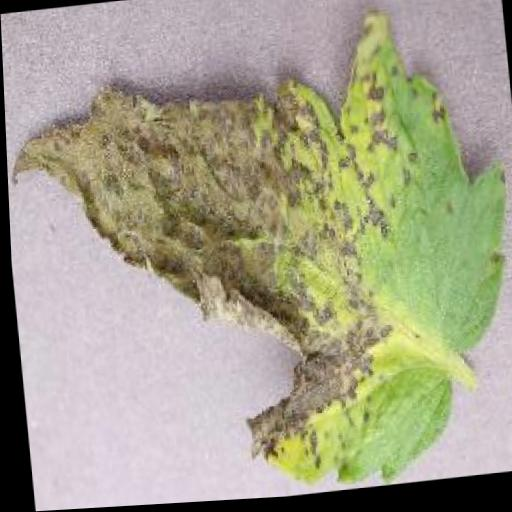Septoria: (1, 2, 512, 512)
